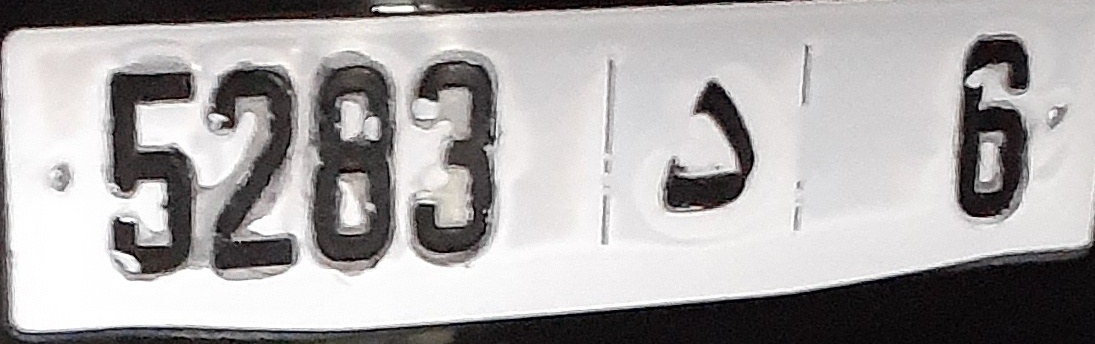2: (203, 59, 305, 280)
3: (403, 44, 505, 269)
5: (99, 59, 198, 281)
6: (949, 32, 1043, 227)
8: (303, 59, 404, 272)
d: (659, 72, 766, 222)
